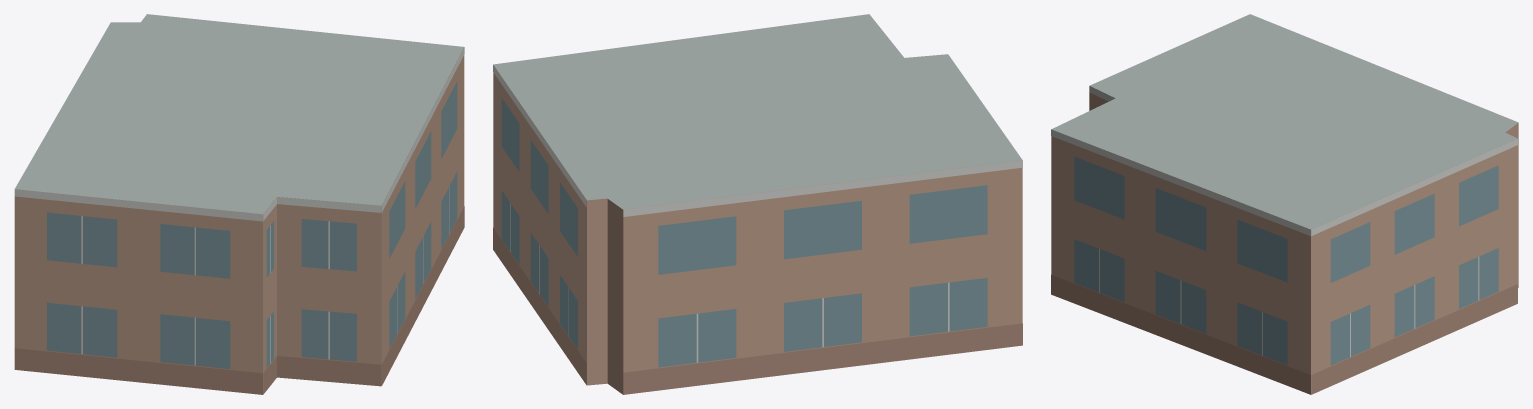
File: survey-upis-32531281.glb
3 renders of one model, left to right at view 1: azimuth 30°, elevation 25°; view 2: azimuth 150°, elevation 25°; view 3: azimuth 270°, elevation 25°, orthographic. The views are drawn at different scales.
Parts seen in each view (by area): view 1: survey-upis-32531281.tmp; view 2: survey-upis-32531281.tmp; view 3: survey-upis-32531281.tmp.
Boxes of the visible parts, x1,y1,x2,y2 form: survey-upis-32531281.tmp: [14, 14, 464, 394]; survey-upis-32531281.tmp: [493, 14, 1022, 394]; survey-upis-32531281.tmp: [1051, 14, 1518, 394].
Bounding box in the file's own units: 17.09 × 6.1 × 15.66.
